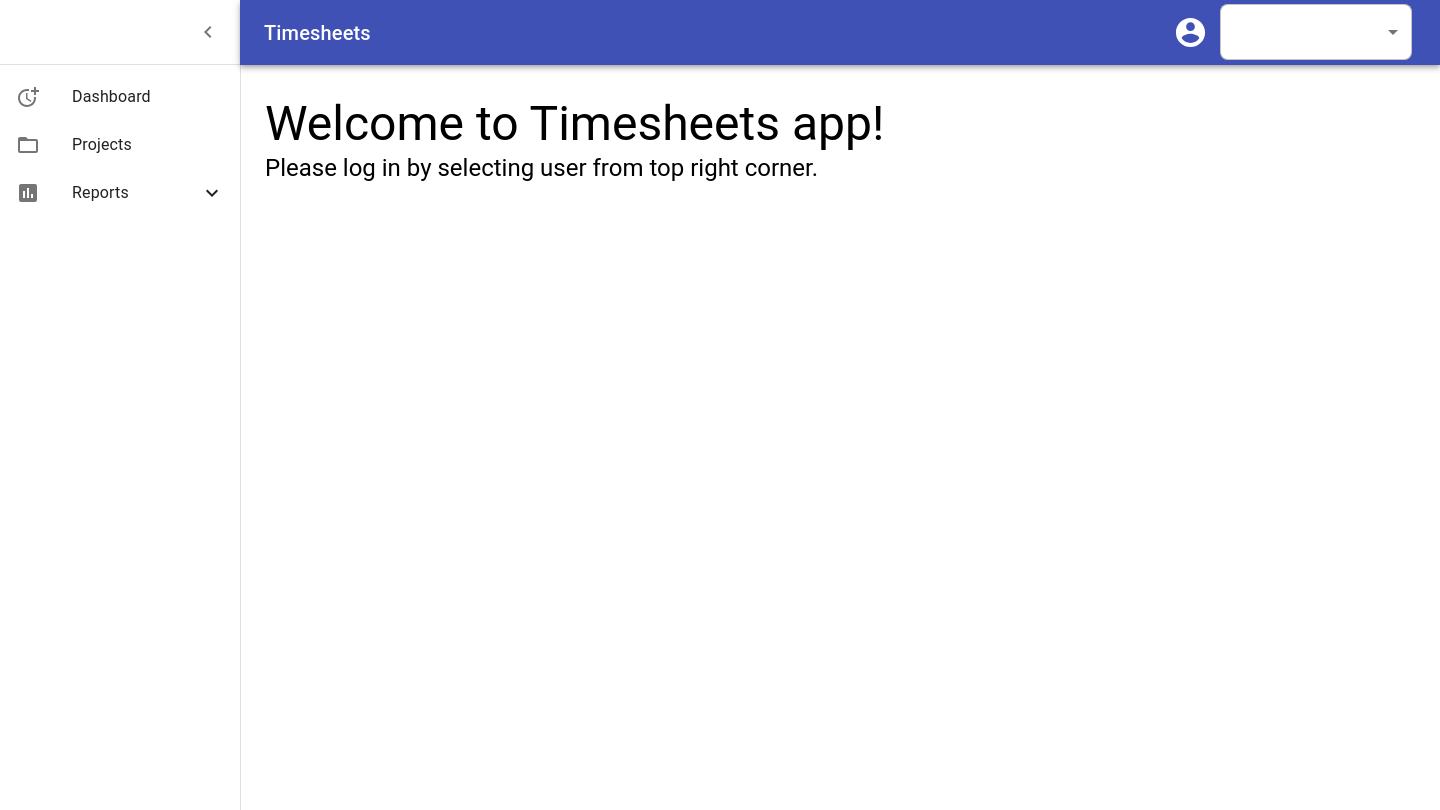
it: projects › when navigating into projects with manager user › should display user's projects
Check: the heading "Timesheets" is shown, box top-left (264, 20), bottom-right (371, 44)
Click the button with test id "projects-nav".
click(74, 145)  # box top-left (16, 133), bottom-right (132, 157)
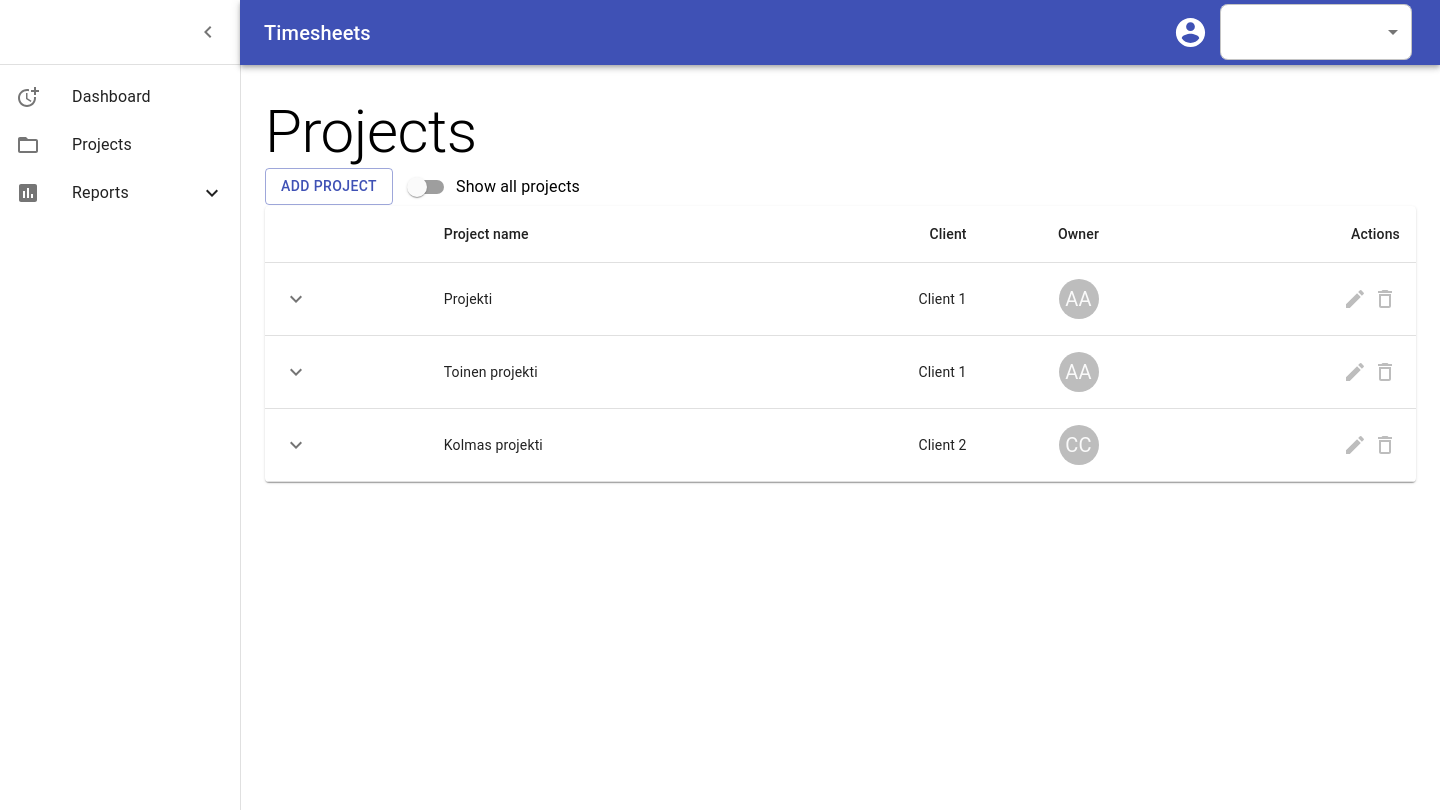
Check: the text "Add project" is shown, box top-left (281, 174), bottom-right (377, 198)
Check: the text "Projekti" is shown, box top-left (428, 262), bottom-right (772, 335)
